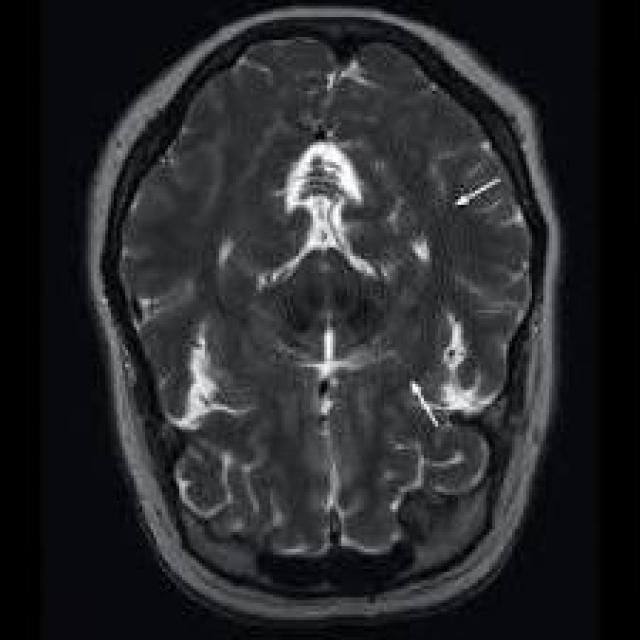notumor: (88, 9, 558, 620)
